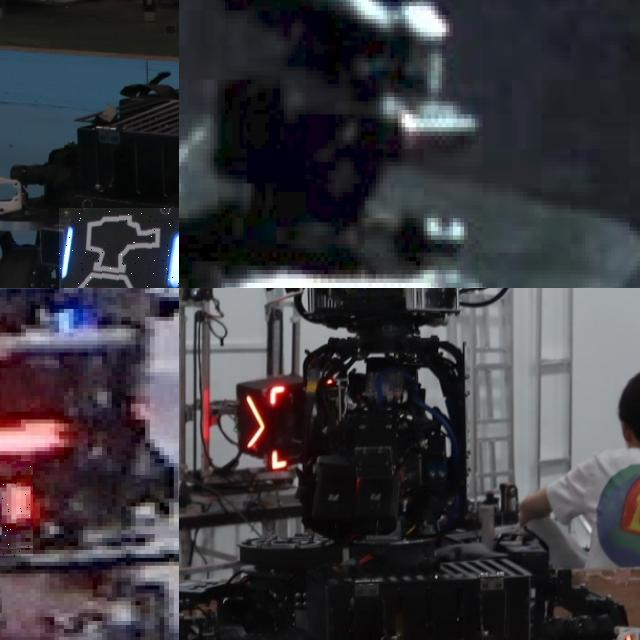Bs: (59, 208, 179, 288)
R2: (0, 461, 33, 556)
